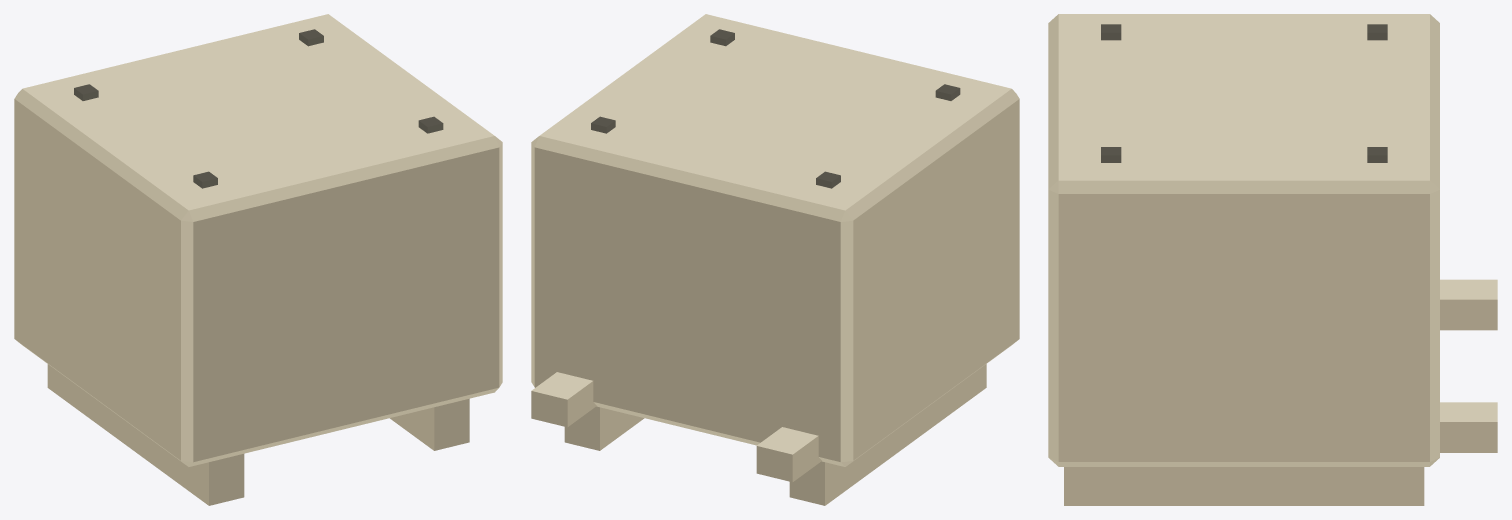
Rendered from ERA_M5_R_HIGH_09.glb.
3 views of the same model, side by side, from view 1: azimuth 30°, elevation 25°; view 2: azimuth 150°, elevation 25°; view 3: azimuth 270°, elevation 25° (orthographic). The views are drawn at different scales.
Parts seen in each view (by area): view 1: ERA_M5_R_HIGH_09.001; view 2: ERA_M5_R_HIGH_09.001; view 3: ERA_M5_R_HIGH_09.001.
Part boxes in pixels (x1,y1,x2,y2): ERA_M5_R_HIGH_09.001: [14, 14, 502, 505]; ERA_M5_R_HIGH_09.001: [531, 14, 1019, 505]; ERA_M5_R_HIGH_09.001: [1048, 14, 1497, 505].
Size of the model in its own units: 0.328 by 0.3015 by 0.3555.
